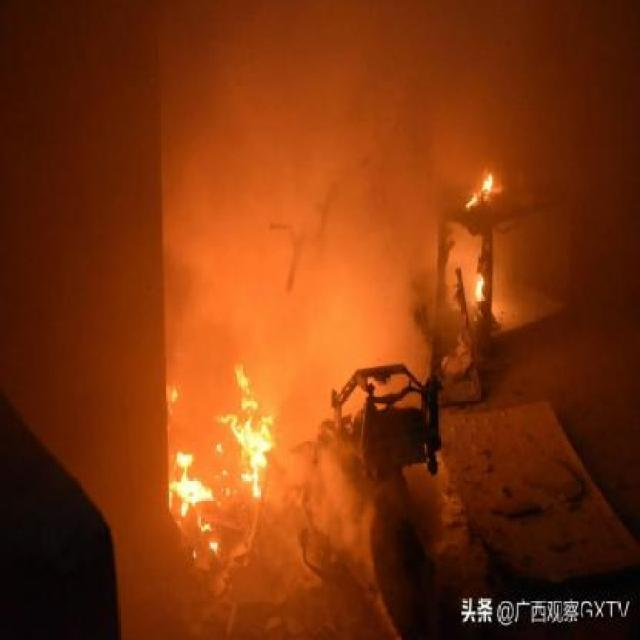Fire: (226, 360, 277, 494), (171, 447, 217, 522), (468, 167, 494, 213), (474, 268, 484, 306)
Smoke: (166, 246, 239, 449), (222, 186, 288, 408)
